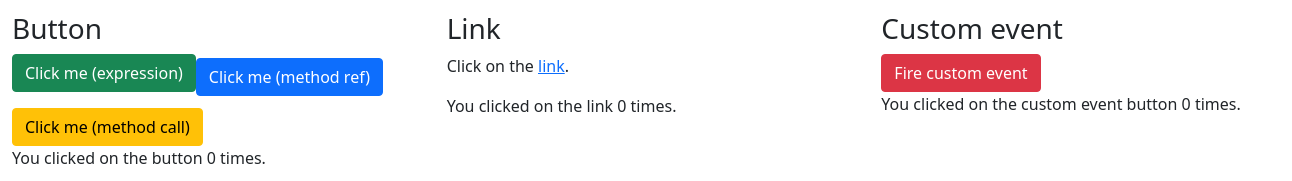
Test: EventHandler custom event › testing-library/vue
Expected: the text "You clicked on the custom event button 0 times." is shown, 881,92 -> 1291,116
Click the button "Fire custom event" at (961, 73), box 881,54 -> 1040,92
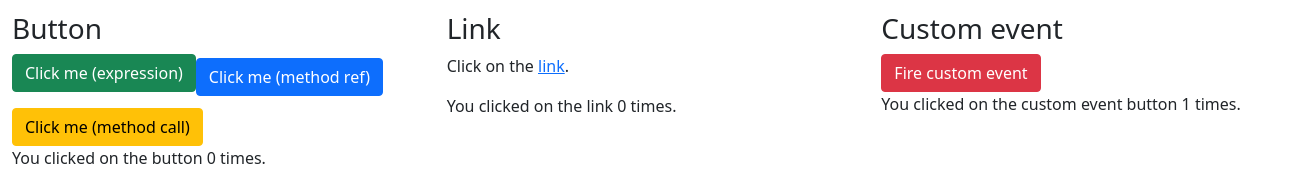
Now the text "You clicked on the custom event button 1 times." is shown, box 881,92 -> 1291,116
